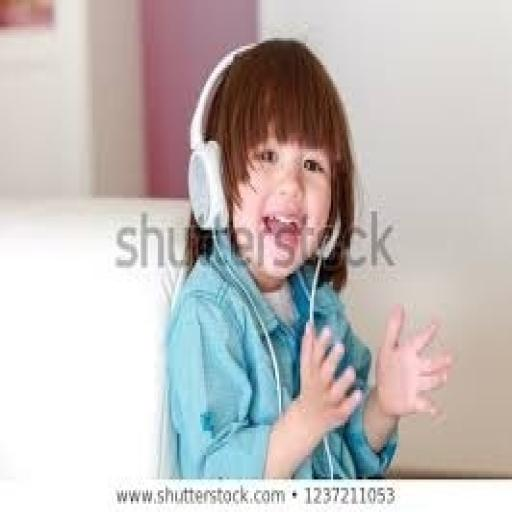clapping: (164, 35, 454, 480)
